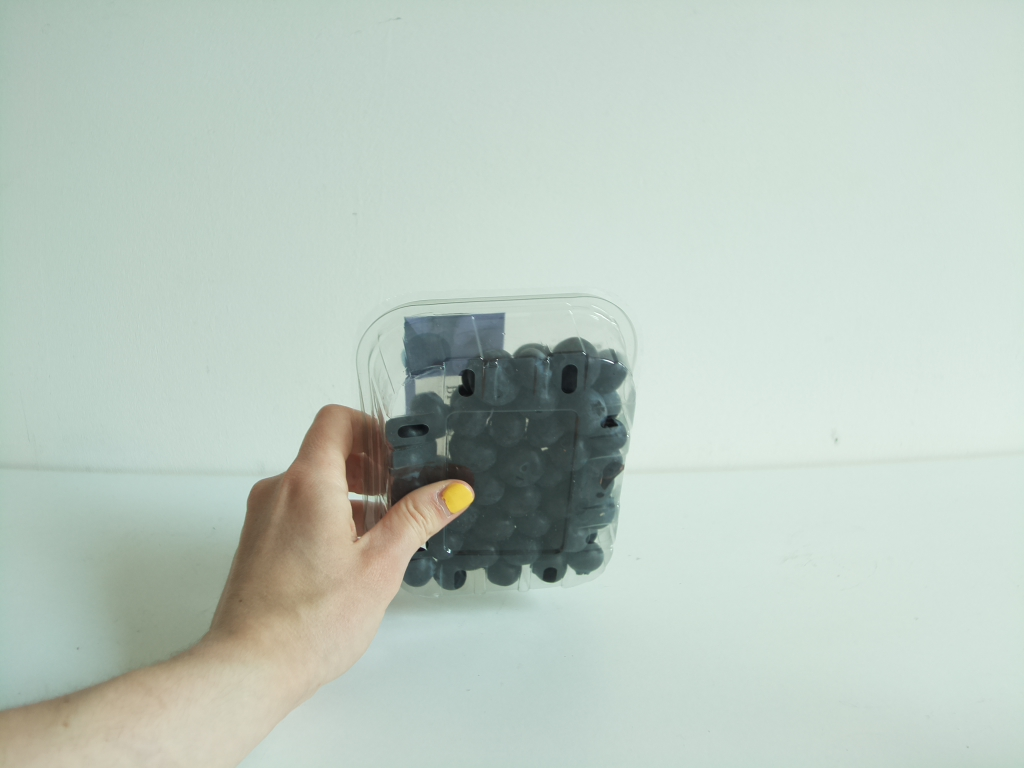soft-fruit: (354, 294, 638, 598)
